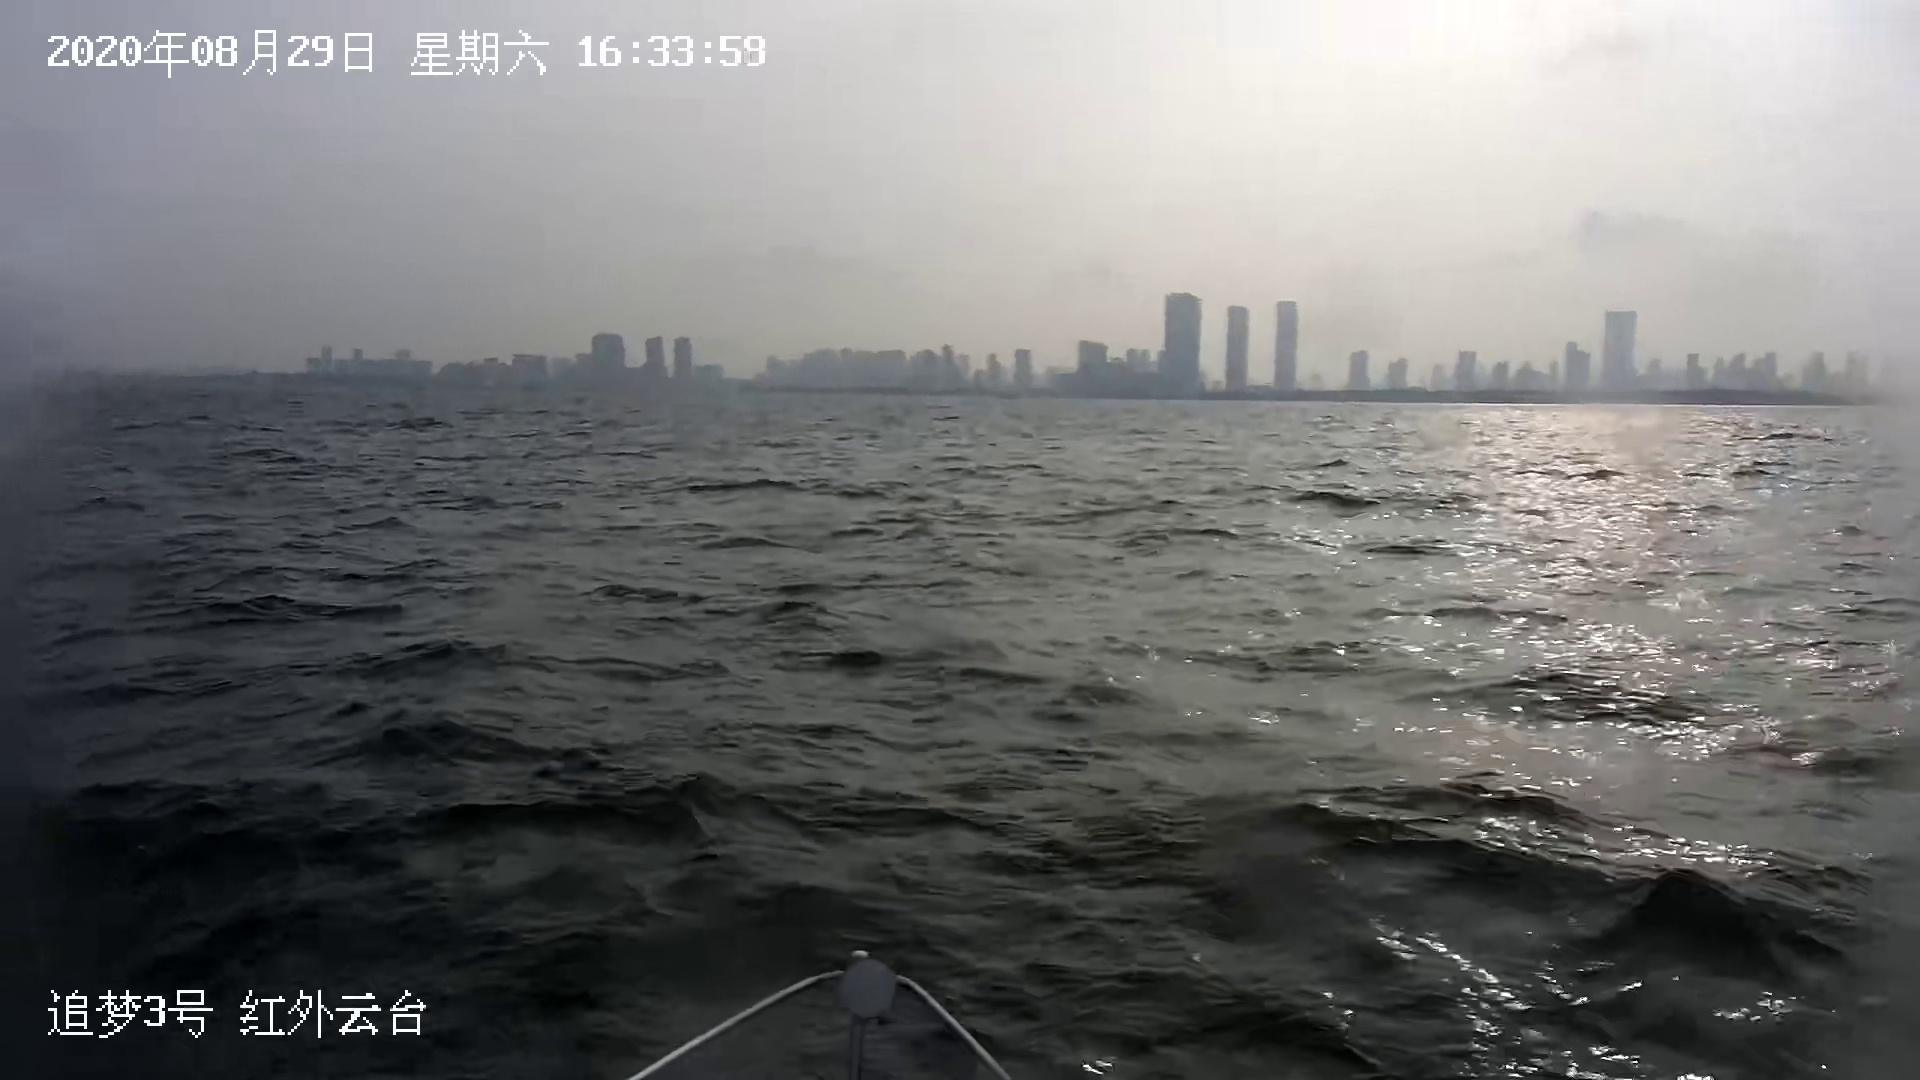coast: (76, 289, 1875, 411)
